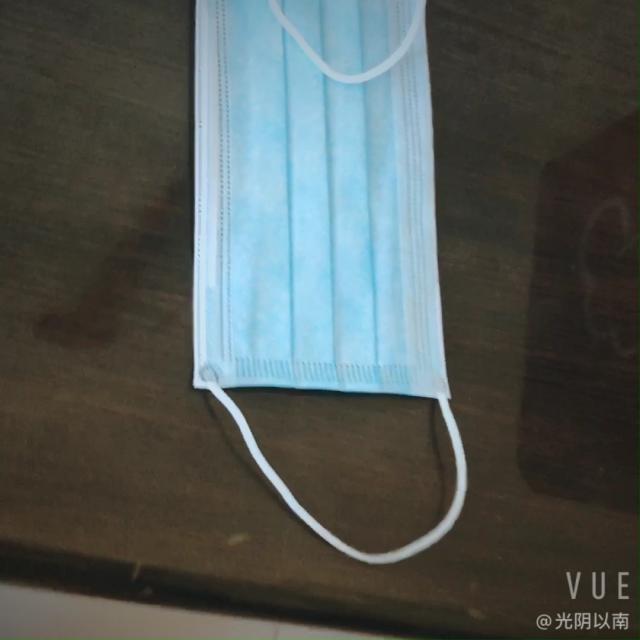non-organic waste: (172, 0, 448, 400)
